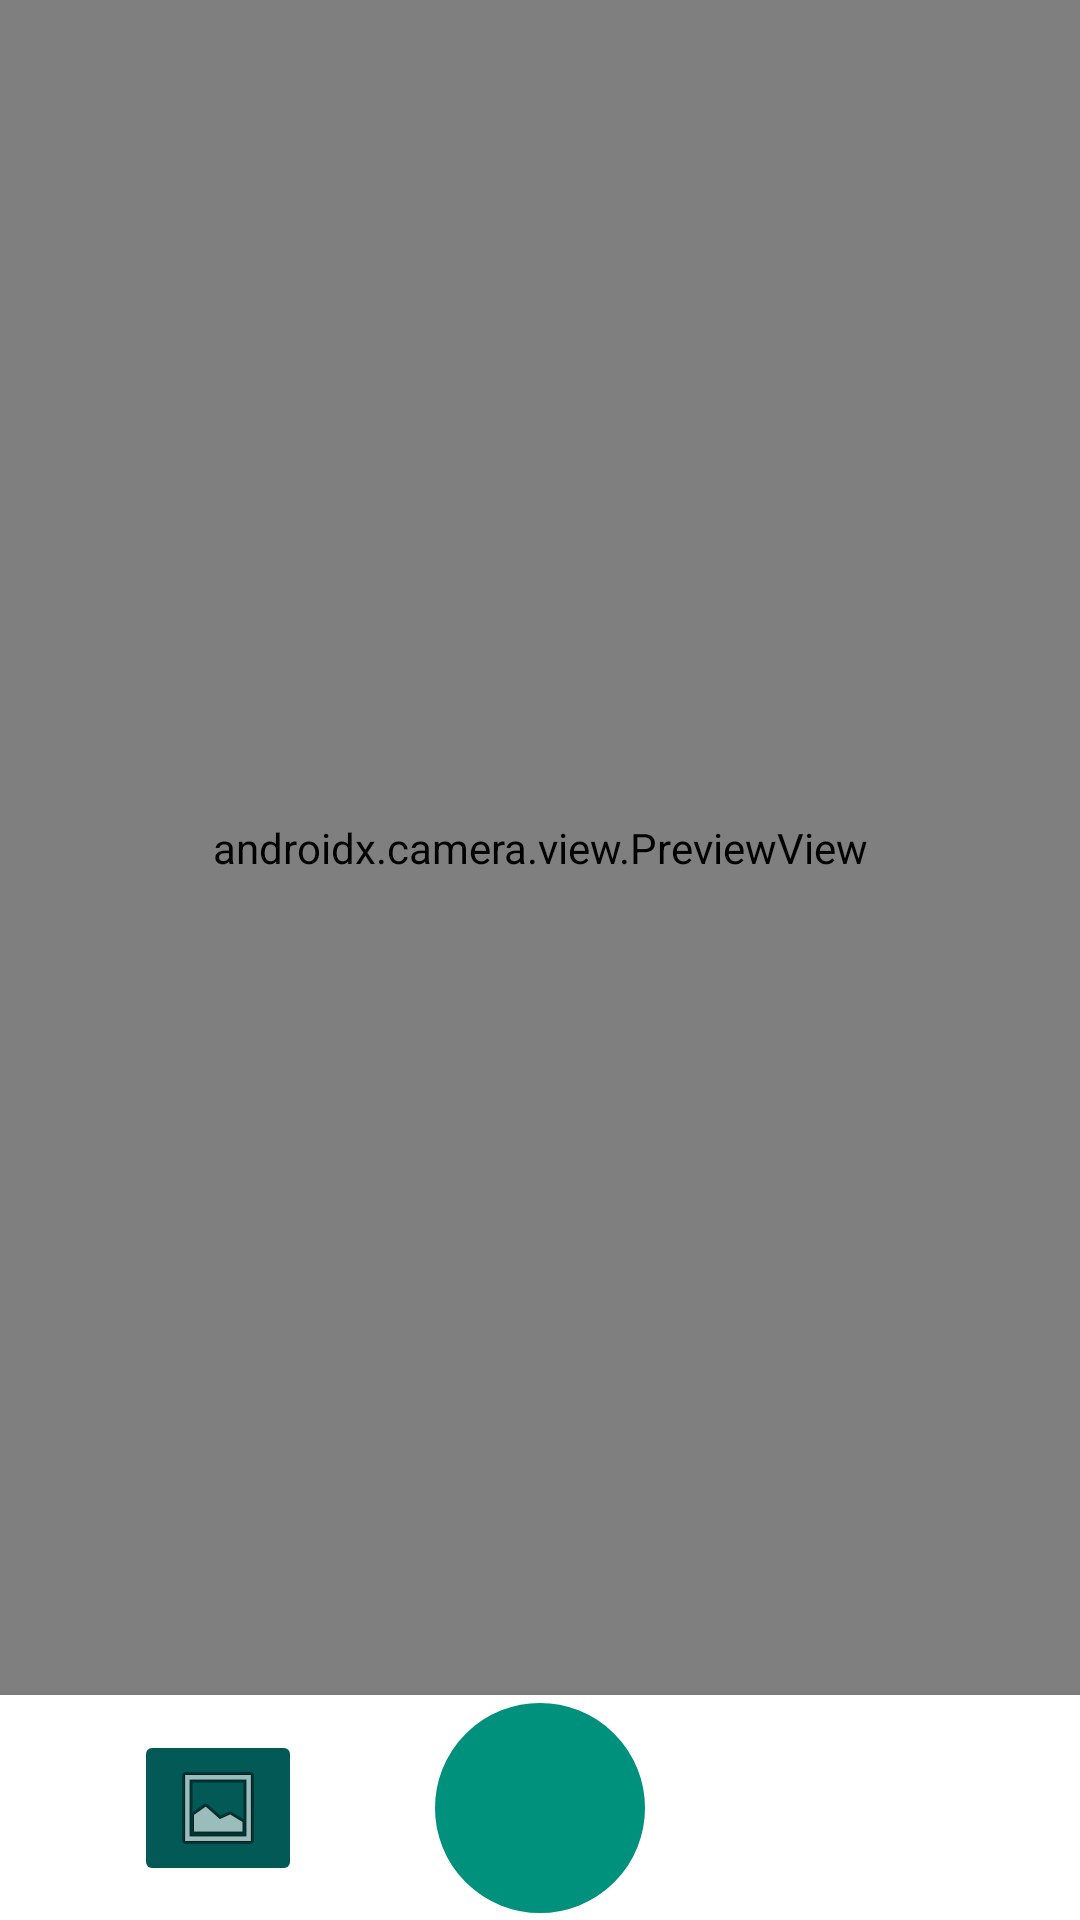

Where icons sit on this 1080px x 1920px app screen, as (x1, y1, x2, y2):
gallery: (146, 1748, 290, 1868)
